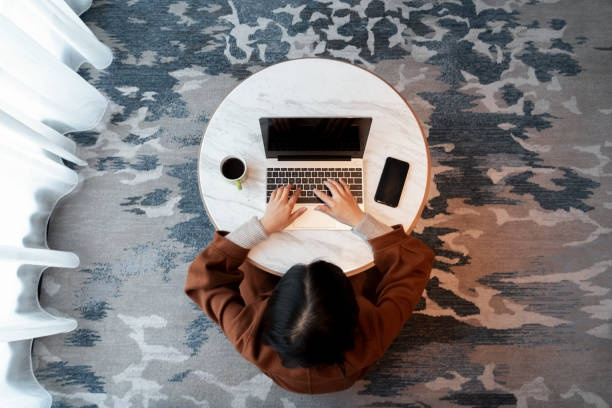keyboard: (265, 165, 363, 206)
laptop: (258, 114, 374, 233)
person: (197, 238, 435, 397)
phone: (375, 156, 410, 210)
